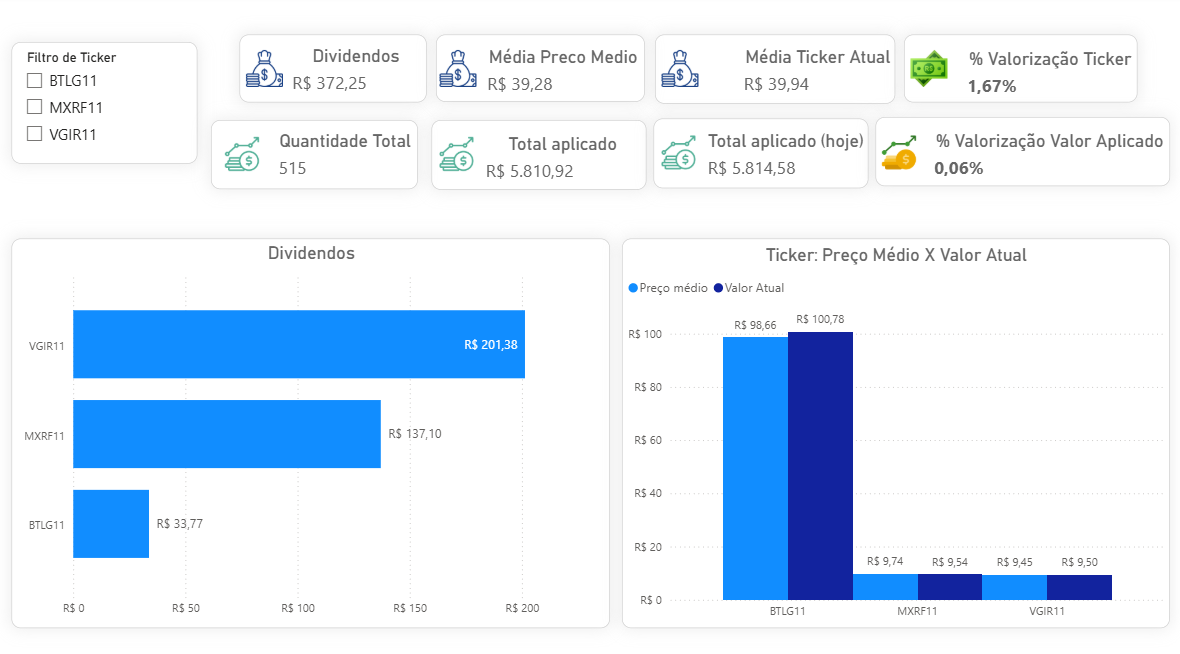

What the dashboard file says about the page in this screenshot:
{"tool":"powerbi","page":{"name":"Página 1","canvas":[1280,720],"ordinal":0},"visuals":[{"type":"textbox","box":[263.3,40.1,201.7,73.3],"z":0},{"type":"multiRowCard","title":"Dividendos","fields":{"Values":["Planilha1.Total Dividendos"]},"box":[315.9,51,147.8,62.8],"z":1000},{"type":"textbox","box":[711.9,40.1,259.1,74.5],"z":2000},{"type":"multiRowCard","title":"Média Ticker Atual","fields":{"Values":["Planilha1.Total Ticker Atual"]},"box":[764.3,53.4,205.6,61.5],"z":3000},{"type":"textbox","box":[981.7,40.2,251.7,73.3],"z":4000},{"type":"multiRowCard","title":"% Valorização Ticker","fields":{"Values":["Planilha1.% Ticker"]},"box":[1044.4,55.1,187.8,59.9],"z":5000},{"type":"textbox","box":[475.8,40.1,225.1,72.9],"z":6000},{"type":"multiRowCard","title":"Média Preco Medio","fields":{"Values":["Planilha1.Total Preco Medio"]},"box":[526.2,53.4,171.6,59.9],"z":7000},{"type":"textbox","box":[468.1,132.9,231.7,75],"z":8000},{"type":"multiRowCard","title":"Total aplicado","fields":{"Values":["Planilha1.Total Aplicado"]},"box":[521.4,147.3,176.5,59.9],"z":9000},{"type":"textbox","box":[707.6,131,231.7,75],"z":10000},{"type":"multiRowCard","title":"Total aplicado (hoje)","fields":{"Values":["Planilha1.Total aplicado atual"]},"box":[761.5,144.3,178.3,60],"z":11000},{"type":"textbox","box":[947.1,130.7,318,74.9],"z":12000},{"type":"multiRowCard","title":"% Valorização Valor Aplicado","fields":{"Values":["Planilha1.% Valor"]},"box":[1005.5,145.7,259.1,58.3],"z":13000},{"type":"slicer","fields":{"Values":["Planilha1.Ticker"]},"box":[14.6,40.5,200.8,163.5],"z":14000},{"type":"textbox","box":[230.6,132.6,223.5,74.5],"z":15000},{"type":"multiRowCard","title":"Quantidade Total","fields":{"Values":["Planilha1.Quantidade Total"]},"box":[299.1,145.2,153.9,60.8],"z":16000},{"type":"clusteredBarChart","title":"Dividendos","fields":{"Category":["Planilha1.Ticker"],"Y":["Sum(Planilha1.Proventos)"]},"box":[15.2,261.3,646.1,421],"z":17000},{"type":"clusteredColumnChart","title":"Ticker: Preço Médio X Valor Atual","fields":{"Category":["Planilha1.Ticker"],"Y":["Sum(Planilha1.Preço médio)","Sum(Planilha1.Valor Atual (Ticker))"]},"box":[674.2,261.3,591,421],"z":18000},{"type":"image","box":[470.2,144.5,50,50],"z":19000},{"type":"image","box":[709.8,142.6,50,50],"z":20000},{"type":"image","box":[238.6,144.5,50,50],"z":21000},{"type":"image","box":[947.1,142.9,50.6,50.6],"z":22000},{"type":"image","box":[982.5,51.8,50,50],"z":23000},{"type":"image","box":[265.2,51.8,50,50],"z":24000},{"type":"image","box":[713.5,51.4,50.2,50.2],"z":25000},{"type":"image","box":[475.2,51.8,50,50],"z":26000}]}

Visuals, with their boxes in screenshot pixels (x1, y1, x2, y2), scaled from the page's 1280x720 canvas onto the 1180x654 screenshot:
textbox: BBox(243, 36, 429, 103)
"Dividendos" multiRowCard: BBox(291, 46, 427, 103)
textbox: BBox(656, 36, 895, 104)
"Média Ticker Atual" multiRowCard: BBox(705, 49, 894, 104)
textbox: BBox(905, 37, 1137, 103)
"% Valorização Ticker" multiRowCard: BBox(963, 50, 1136, 104)
textbox: BBox(439, 36, 646, 103)
"Média Preco Medio" multiRowCard: BBox(485, 49, 643, 103)
textbox: BBox(432, 121, 645, 189)
"Total aplicado" multiRowCard: BBox(481, 134, 643, 188)
textbox: BBox(652, 119, 866, 187)
"Total aplicado (hoje)" multiRowCard: BBox(702, 131, 866, 186)
textbox: BBox(873, 119, 1166, 187)
"% Valorização Valor Aplicado" multiRowCard: BBox(927, 132, 1166, 185)
slicer - Planilha1.Ticker: BBox(13, 37, 199, 185)
textbox: BBox(213, 120, 419, 188)
"Quantidade Total" multiRowCard: BBox(276, 132, 418, 187)
"Dividendos" clusteredBarChart: BBox(14, 237, 610, 620)
"Ticker: Preço Médio X Valor Atual" clusteredColumnChart: BBox(622, 237, 1166, 620)
image: BBox(433, 131, 480, 177)
image: BBox(654, 130, 700, 175)
image: BBox(220, 131, 266, 177)
image: BBox(873, 130, 920, 176)
image: BBox(906, 47, 952, 92)
image: BBox(244, 47, 291, 92)
image: BBox(658, 47, 704, 92)
image: BBox(438, 47, 484, 92)
